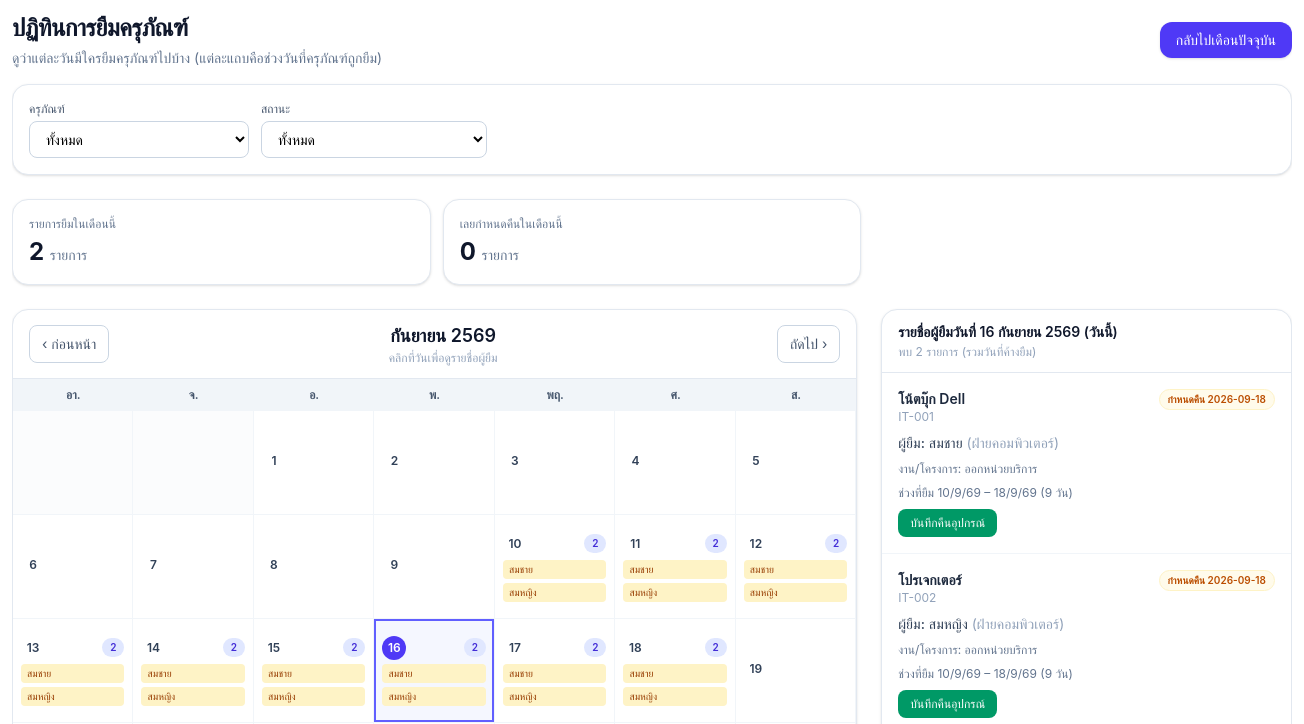
Scenario: BorrowCalendarView.vue › กรองตามครุภัณฑ์ที่เลือกได้
Select "IT-002 - โปรเจกเตอร์" in the 1st dropdown at (139, 140), box [29,121,249,158]
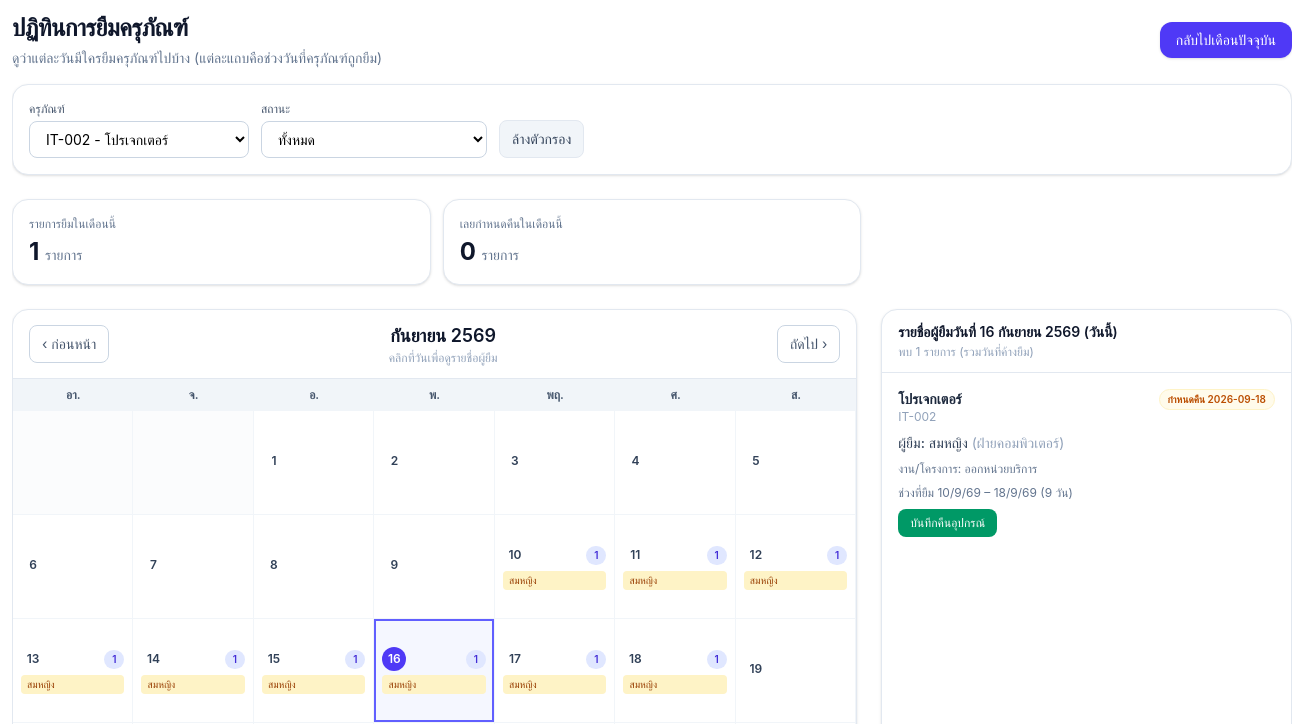
Check: the button "11 1 สมหญิง" is shown, box [615,515,736,619]
Check: the text "สมชาย" is gone
Check: the text "ผู้ยืม: สมชาย" is gone
